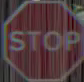Stop: (6, 5, 79, 72)
